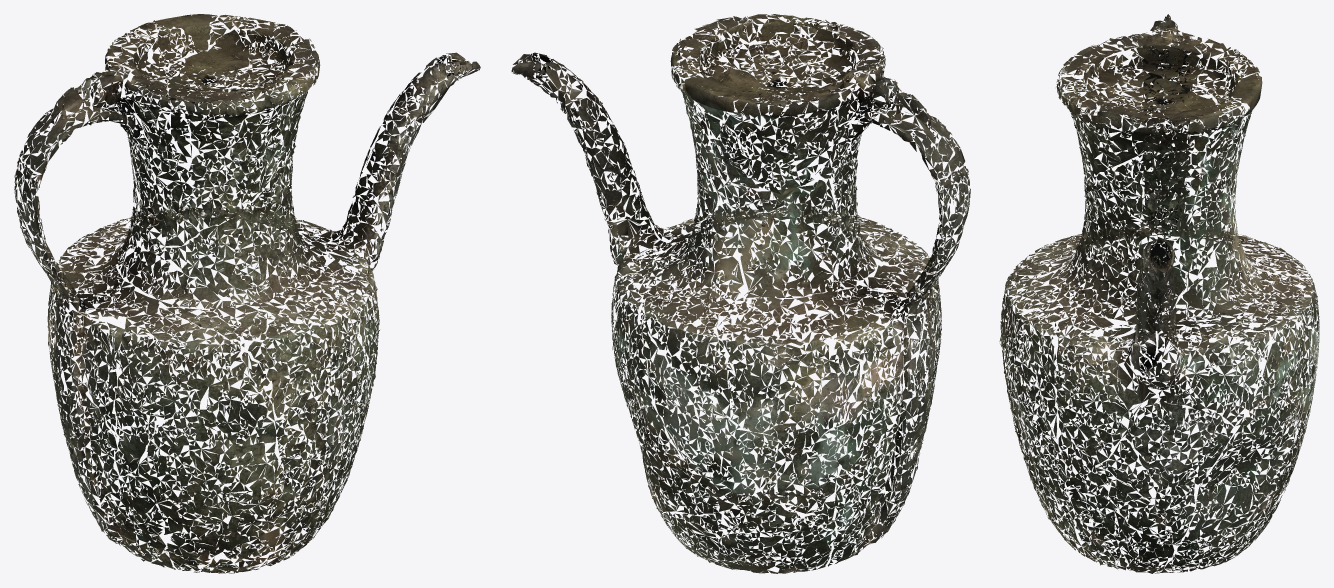
Rendered from ewer.glb.
3 renders of one model, left to right at view 1: azimuth 30°, elevation 25°; view 2: azimuth 150°, elevation 25°; view 3: azimuth 270°, elevation 25°, orthographic. The views are drawn at different scales.
Parts seen in each view (by area): view 1: Object_13, Object_5, Object_4, Object_9, Object_16, Object_7, Object_18, Object_8, Object_17, Object_10, Object_19, Object_6 (+2 smaller); view 2: Object_8, Object_7, Object_15, Object_17, Object_18, Object_9, Object_14, Object_6, Object_16, Object_4, Object_10, Object_19 (+3 smaller); view 3: Object_6, Object_15, Object_16, Object_5, Object_18, Object_17, Object_14, Object_8, Object_9, Object_10, Object_7, Object_19 (+4 smaller).
Part boxes in pixels (x1,y1,x2,y2): Object_13: [131, 357, 357, 573]; Object_5: [63, 308, 372, 540]; Object_4: [54, 327, 325, 571]; Object_9: [19, 54, 424, 258]; Object_16: [14, 116, 326, 350]; Object_7: [45, 106, 344, 382]; Object_18: [113, 14, 480, 176]; Object_8: [36, 148, 383, 338]; Object_17: [17, 20, 359, 243]; Object_10: [20, 29, 448, 571]; Object_19: [14, 14, 472, 573]; Object_6: [47, 247, 379, 551]; Object_8: [604, 144, 941, 370]; Object_7: [666, 116, 939, 449]; Object_15: [611, 252, 837, 553]; Object_17: [612, 51, 970, 313]; Object_18: [511, 14, 871, 202]; Object_9: [560, 24, 965, 293]; Object_14: [606, 221, 836, 573]; Object_6: [615, 208, 926, 550]; Object_16: [611, 111, 962, 476]; Object_4: [767, 241, 941, 566]; Object_10: [538, 14, 953, 563]; Object_19: [522, 22, 968, 570]; Object_6: [1010, 244, 1233, 507]; Object_15: [1187, 316, 1319, 562]; Object_16: [1034, 73, 1318, 420]; Object_5: [999, 230, 1194, 554]; Object_18: [1056, 49, 1258, 284]; Object_17: [1101, 32, 1296, 355]; Object_14: [1086, 330, 1292, 573]; Object_8: [1045, 160, 1316, 375]; Object_9: [1058, 16, 1268, 378]; Object_10: [1001, 14, 1316, 537]; Object_7: [1012, 123, 1319, 460]; Object_19: [1012, 33, 1262, 571].
Bounding box in the file's own units: 0.2265 × 0.2319 × 0.1446.
Materials: 2 (2 with a texture image).
